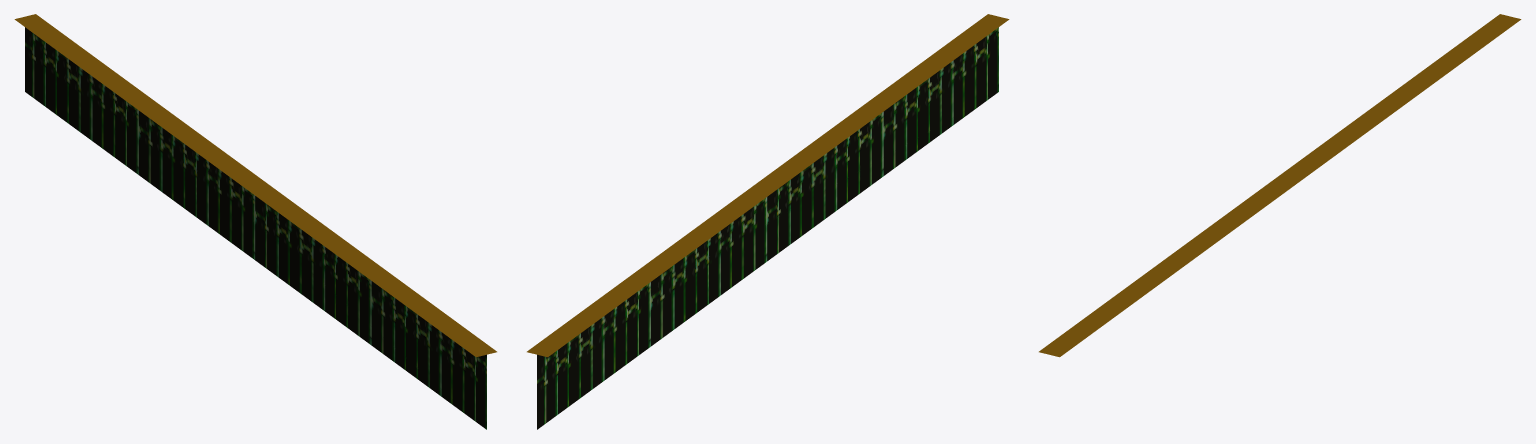
Rendered from Geländer4Gedreht [GrünesMetallDunkel]_613.glb.
The picture shows the model from 3 angles, left to right: view 1: azimuth 30°, elevation 25°; view 2: azimuth 150°, elevation 25°; view 3: azimuth 330°, elevation 25°; orthographic projection.
Parts seen in each view (by area): view 1: pPlaneShape223, pPlaneShape224; view 2: pPlaneShape223, pPlaneShape224; view 3: pPlaneShape224.
Boxes of the visible parts, box(x1,y1,x2,y2) form: pPlaneShape223: box(25, 27, 486, 429); pPlaneShape224: box(14, 14, 496, 357); pPlaneShape223: box(537, 27, 998, 429); pPlaneShape224: box(527, 14, 1009, 357); pPlaneShape224: box(1039, 14, 1521, 357).
Bounding box in the file's own units: 0.0243 × 0.081 × 0.9007.
Materials: 2 (1 with a texture image).
